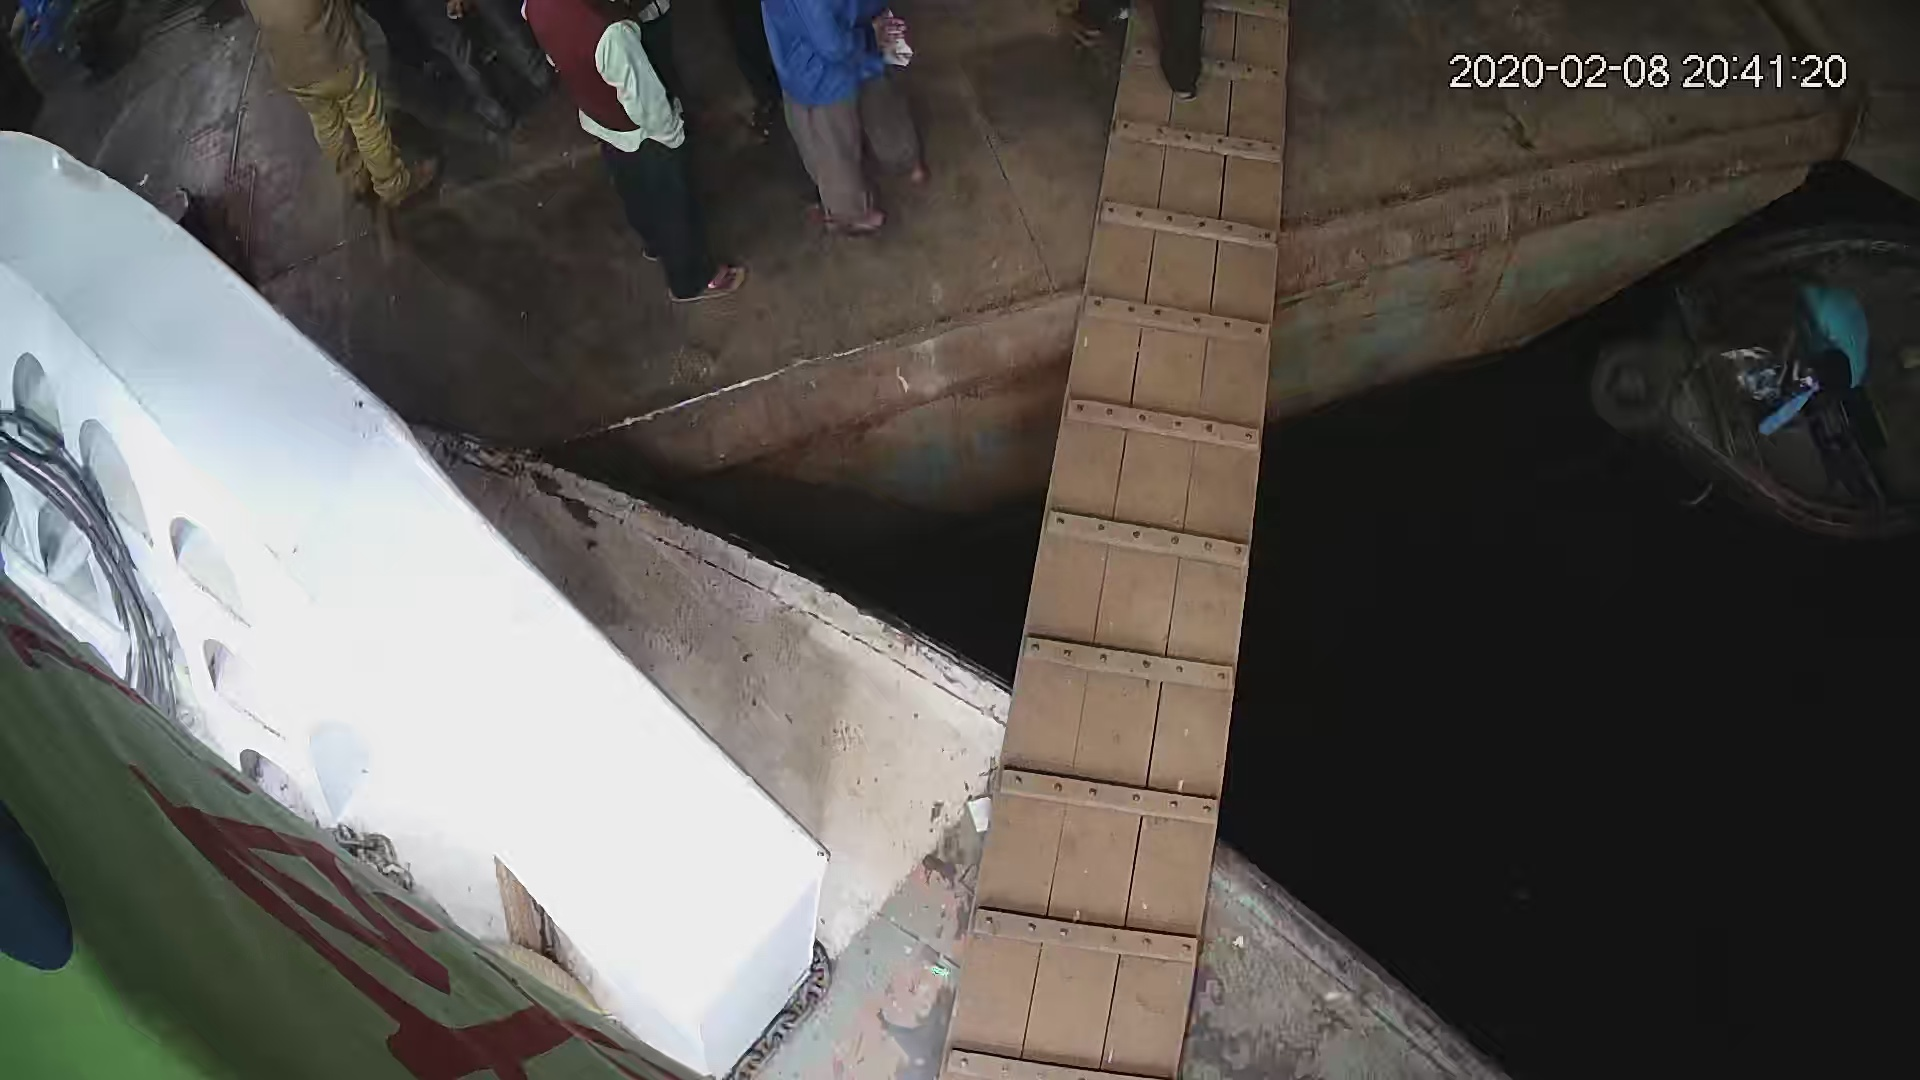person: (511, 5, 746, 311), (765, 7, 940, 247), (244, 1, 442, 213)
